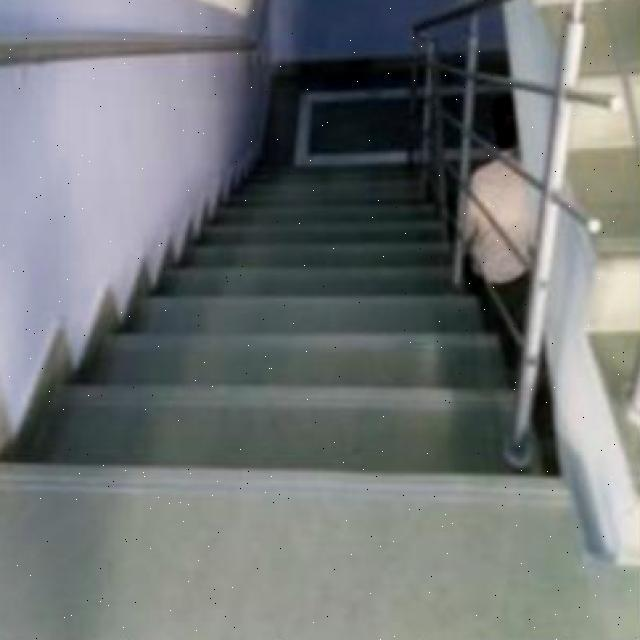stair: (16, 281, 510, 518)
